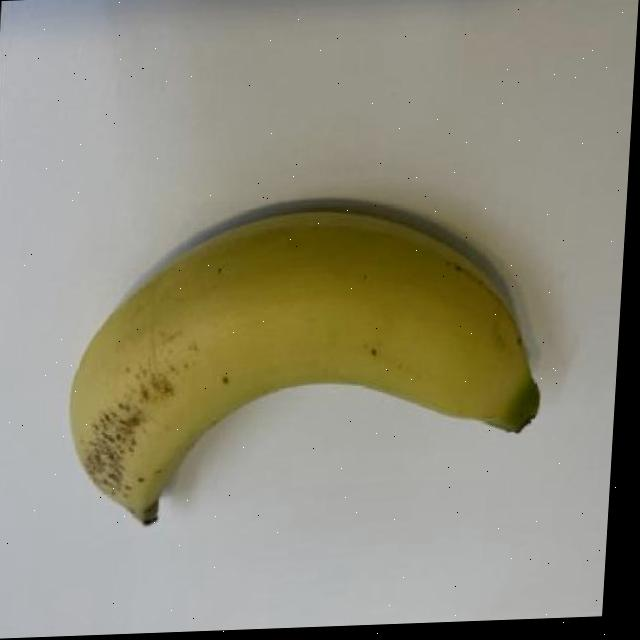banana: (60, 195, 561, 533)
